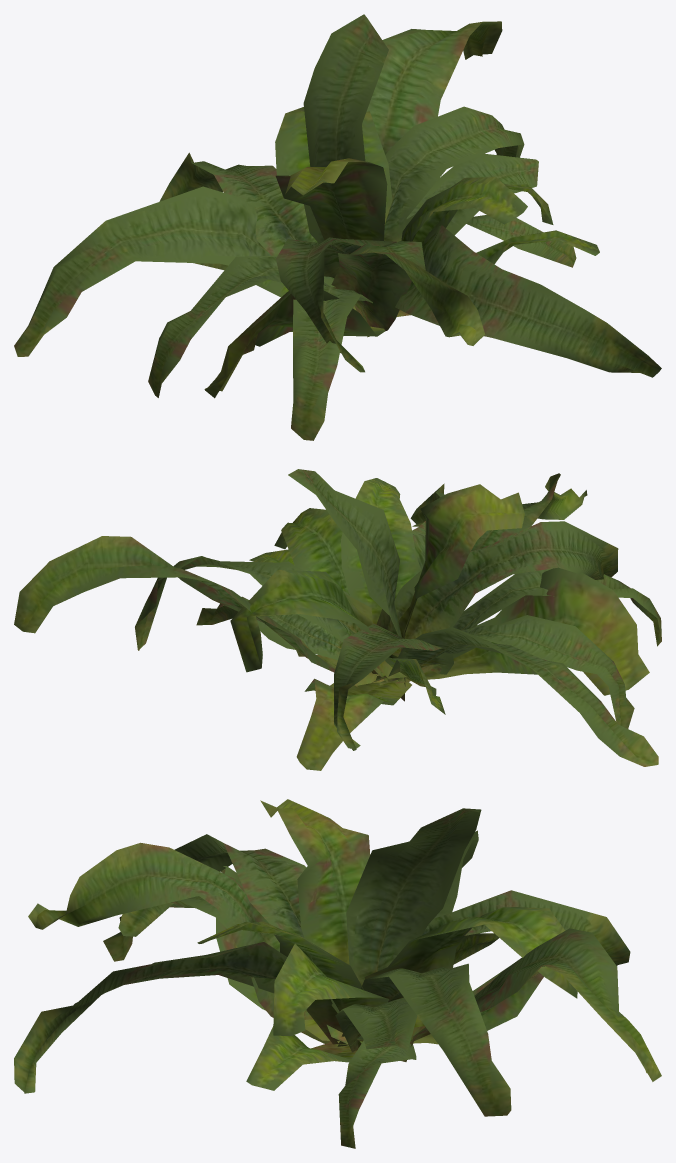
The model's file is fern.glb.
The picture shows the model from 3 angles, top to bottom: view 1: azimuth 30°, elevation 25°; view 2: azimuth 150°, elevation 25°; view 3: azimuth 270°, elevation 25°; orthographic projection. The views are drawn at different scales.
Parts seen in each view (by area): view 1: fern_02_b; view 2: fern_02_b; view 3: fern_02_b.
Boxes of the visible parts, box(x1,y1,x2,y2) form: fern_02_b: box(14, 14, 661, 440); fern_02_b: box(14, 469, 661, 770); fern_02_b: box(14, 799, 661, 1148).
Bounding box in the file's own units: 0.989 × 0.4277 × 0.8937.
Materials: 1 (1 with a texture image).
